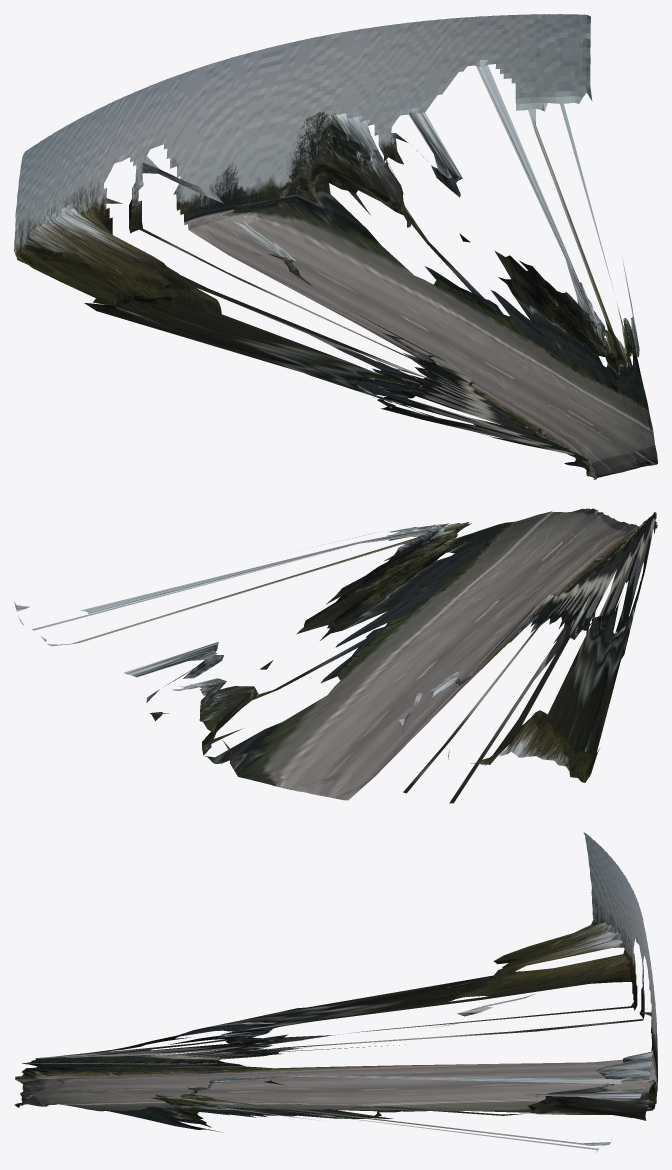
3 renders of one model, top to bottom at view 1: azimuth 30°, elevation 25°; view 2: azimuth 150°, elevation 25°; view 3: azimuth 270°, elevation 25°, orthographic. The views are drawn at different scales.
Parts seen in each view (by area): view 1: defaultobject; view 2: defaultobject; view 3: defaultobject.
Part boxes in pixels (x1,y1,x2,y2): defaultobject: [14, 14, 657, 479]; defaultobject: [14, 508, 657, 803]; defaultobject: [14, 832, 657, 1152].
Bounding box in the file's own units: 41.02 × 11.68 × 44.77.
Materials: 1 (1 with a texture image).
